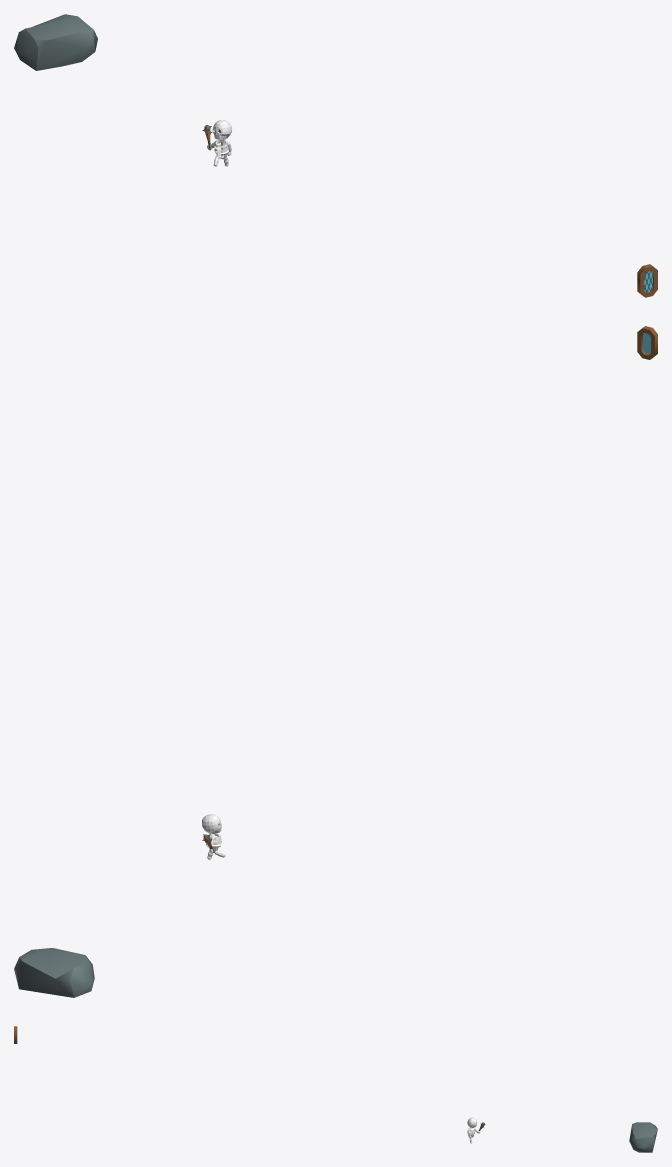
3 views of the same model, one above another, from view 1: azimuth 30°, elevation 25°; view 2: azimuth 150°, elevation 25°; view 3: azimuth 270°, elevation 25° (orthographic). The views are drawn at different scales.
Parts seen in each view (by area): view 1: Box886_rock_0, Plane432_brown_0; view 2: Box886_rock_0; view 3: Box886_rock_0.
Boxes of the visible parts, bbox=[...] form: Box886_rock_0: bbox=[14, 14, 97, 70]; Plane432_brown_0: bbox=[637, 264, 657, 297]; Box886_rock_0: bbox=[14, 948, 94, 997]; Box886_rock_0: bbox=[629, 1122, 657, 1152].
Bounding box in the file's own units: 292 × 838 × 4027.
